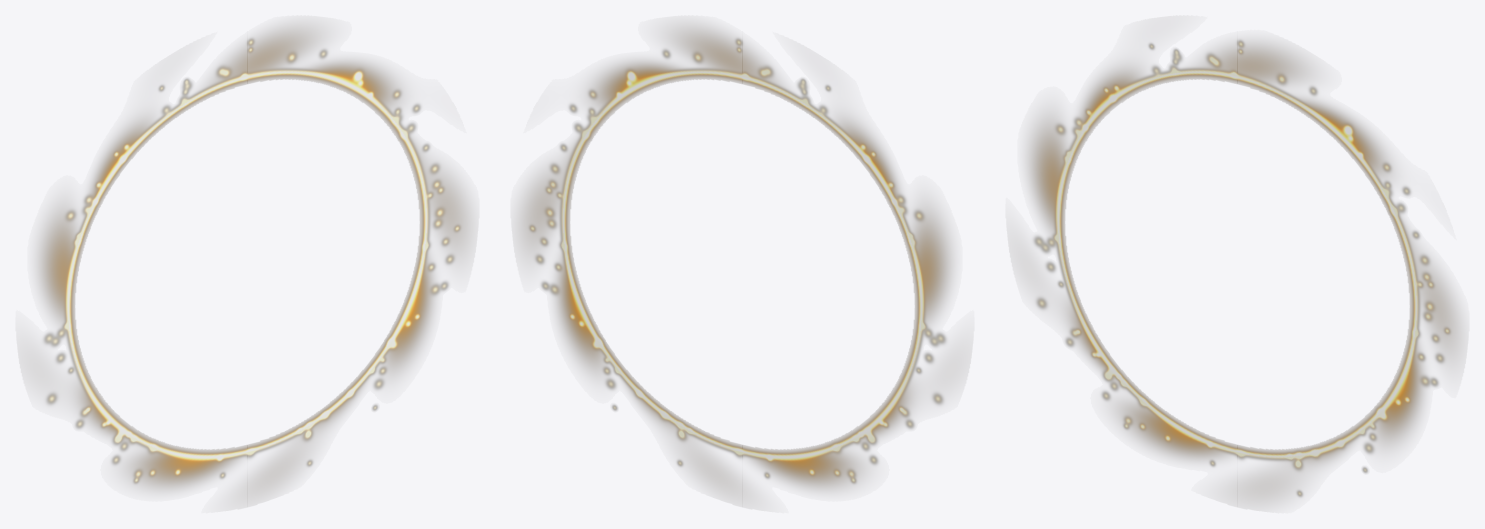
Rendered from portal_gybm_rim.glb.
3 views of the same model, side by side, from view 1: azimuth 30°, elevation 25°; view 2: azimuth 150°, elevation 25°; view 3: azimuth 330°, elevation 25° (orthographic).
Visible parts, largest first — view 1: portal_gybm_rim_portal_gybm_rim; view 2: portal_gybm_rim_portal_gybm_rim; view 3: portal_gybm_rim_portal_gybm_rim.
Boxes of the visible parts, x1,y1,x2,y2 form: portal_gybm_rim_portal_gybm_rim: [39, 27, 469, 502]; portal_gybm_rim_portal_gybm_rim: [520, 27, 950, 502]; portal_gybm_rim_portal_gybm_rim: [1029, 39, 1459, 502].
Bounding box in the file's own units: 3.9 × 3.9 × 0.
Materials: 1 (1 with a texture image).
